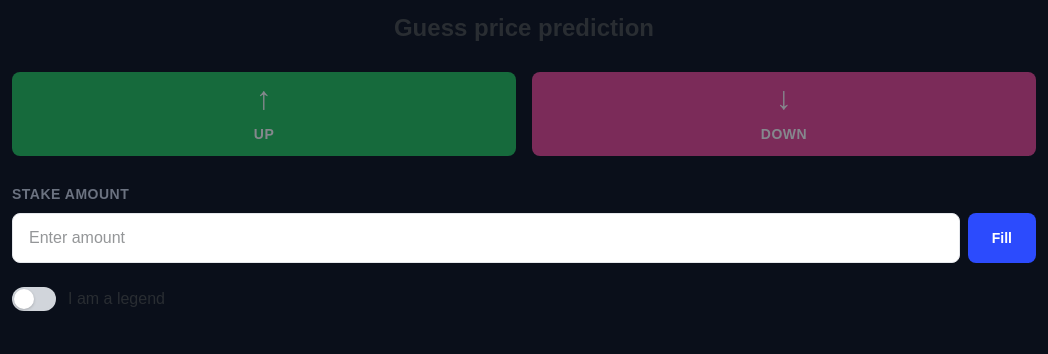
it: PredictionControls › rejects invalid stake values and displays validation messages
The image size is (1048, 354).
Type "0" into the number field labelled "Stake Amount" at (486, 238), box [12, 213, 960, 263]
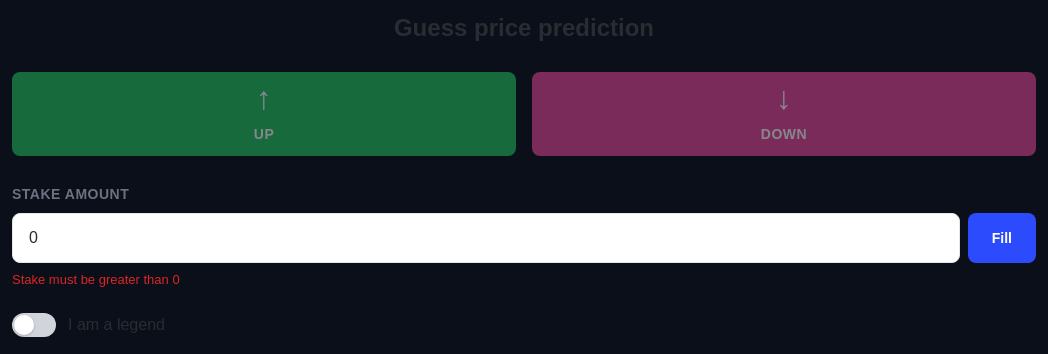
Check: the button "↑ UP" is disabled, box [12, 72, 516, 156]
Check: the message reads "Stake must be greater than 0", box [12, 272, 180, 287]
